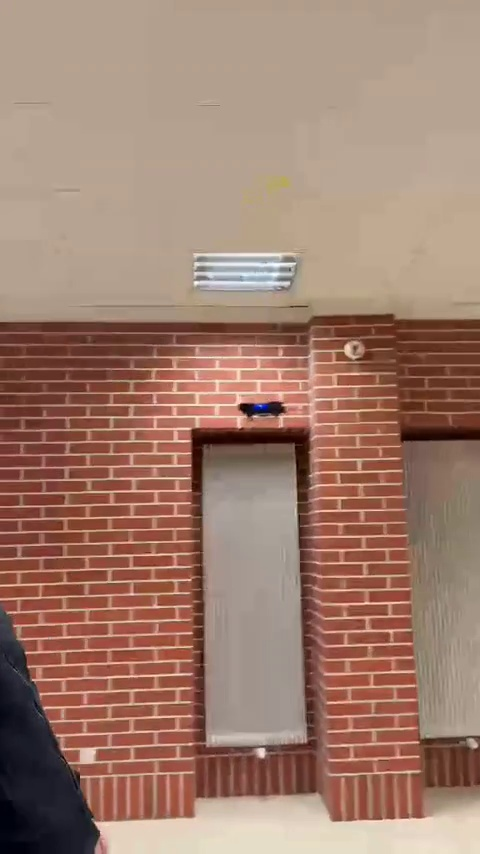drone: (236, 400, 288, 421)
